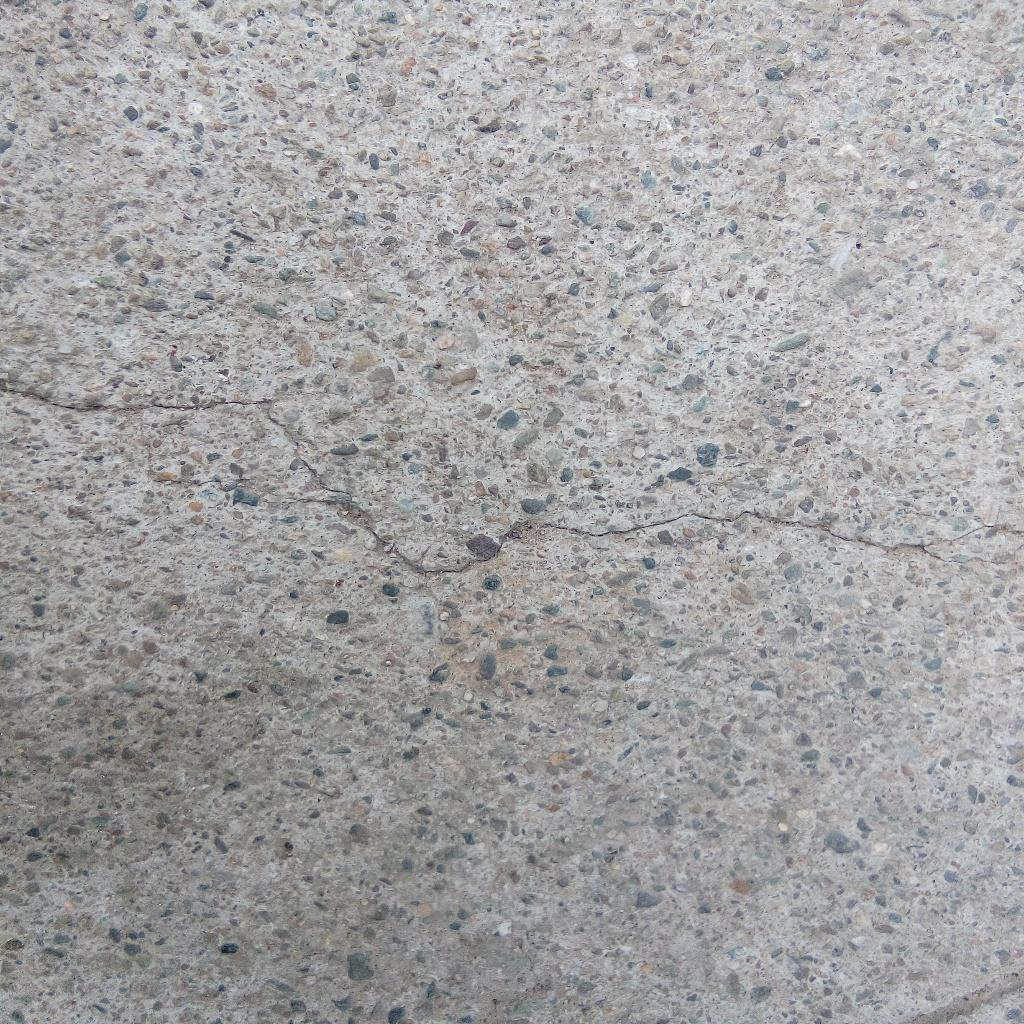Crack: (1, 379, 1024, 576)
